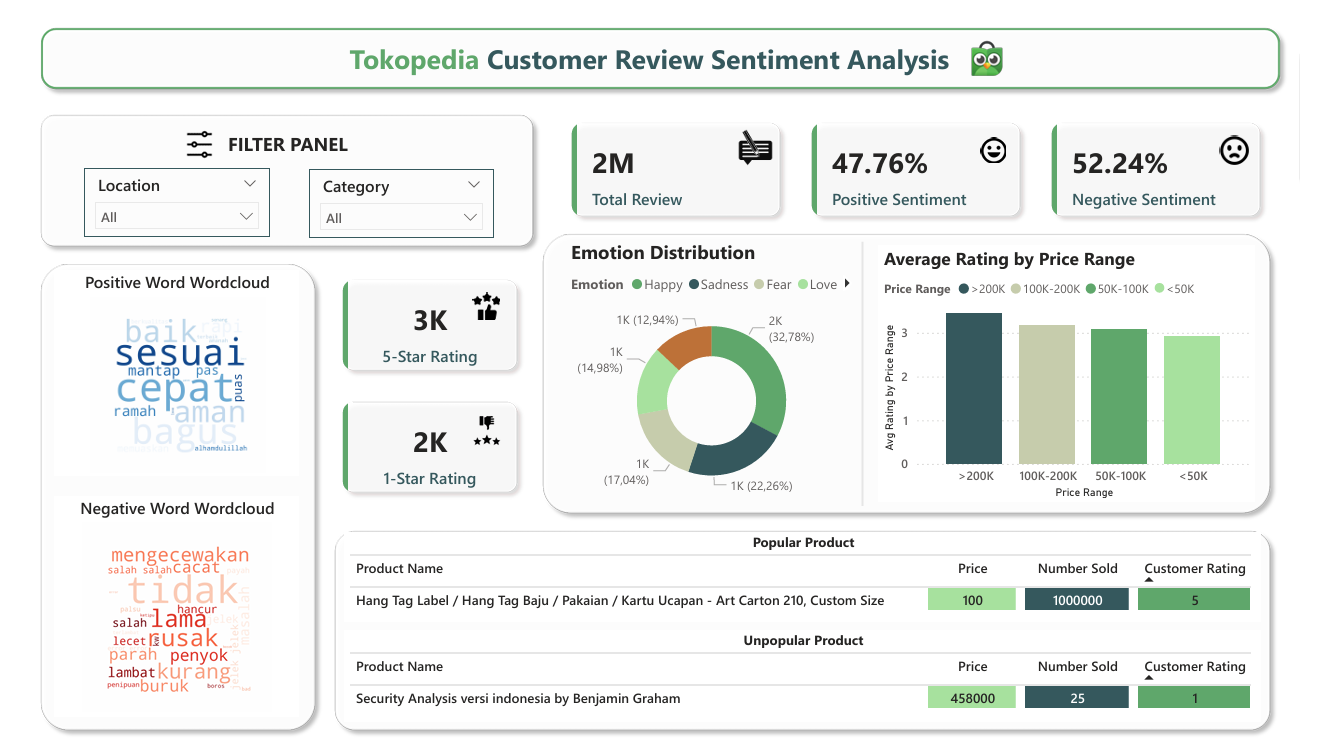

What the dashboard file says about the page in this screenshot:
{"tool":"powerbi","page":{"name":"Page 1","canvas":[1280,720],"ordinal":0},"visuals":[{"type":"shape","box":[12,87,510,149],"z":1000},{"type":"shape","box":[12,236,292,484],"z":2000},{"type":"shape","box":[305.6,503.3,953.3,216.7],"z":3000},{"type":"shape","box":[514.4,205.6,744.4,297.8],"z":4000},{"type":"shape","box":[11.7,0,1257.6,78.8],"z":5000},{"type":"textbox","box":[0,15.6,1258.6,47.7],"z":6000},{"type":"image","box":[767.4,15.6,398.8,47.7],"z":7000},{"type":"cardVisual","fields":{"Data":["PRDECT-ID Dataset.Total Review Unique","PRDECT-ID Dataset.% Sentimen Positif","PRDECT-ID Dataset.% Sentimen Negatif"]},"box":[535,86.6,723.6,127.4],"z":8000},{"type":"slicer","fields":{"Values":["PRDECT-ID Dataset.Location"]},"box":[64.4,148.9,185.6,68.9],"z":9000},{"type":"tableEx","title":"Popular Product","fields":{"Values":["PRDECT-ID Dataset.Product Name","PRDECT-ID Dataset.Price","PRDECT-ID Dataset.Number Sold","PRDECT-ID Dataset.Customer Rating"]},"box":[325,514,917,90],"z":10000},{"type":"cardVisual","fields":{"Data":["PRDECT-ID Dataset.Jumlah Rating 5","PRDECT-ID Dataset.Jumlah Rating 1"]},"box":[305.6,244.4,208.9,245.6],"z":11000},{"type":"donutChart","title":"Emotion Distribution","fields":{"Y":["PRDECT-ID Dataset.Jumlah Emosi"],"Category":["PRDECT-ID Dataset.Emotion"]},"box":[545.6,220,291.1,270],"z":12000},{"type":"pythonVisual","title":"Positive Word Wordcloud","fields":{"Values":["processed_reviews.Sentiment","processed_reviews.Positive Words"]},"box":[35,252,245,206],"z":13000},{"type":"pythonVisual","title":"Negative Word Wordcloud","fields":{"Values":["processed_reviews.Sentiment","processed_reviews.Negative Words"]},"box":[35,478,245,221],"z":14000},{"type":"tableEx","title":"Unpopular Product","fields":{"Values":["PRDECT-ID Dataset.Product Name","PRDECT-ID Dataset.Price","PRDECT-ID Dataset.Number Sold","PRDECT-ID Dataset.Customer Rating"]},"box":[325,612,917,92],"z":15000},{"type":"image","box":[157.8,103.3,43.3,45.6],"z":16000},{"type":"image","box":[445.6,268.9,42.2,37.8],"z":17000},{"type":"image","box":[441.1,390,50,44.4],"z":18000},{"type":"image","box":[955.6,108.9,36.7,45.6],"z":19000},{"type":"image","box":[1193.3,112.2,42.2,38.9],"z":20000},{"type":"image","box":[711.1,104.4,48.9,48.9],"z":21000},{"type":"columnChart","title":"Average Rating by Price Range","fields":{"Category":["PRDECT-ID Dataset.Price Range"],"Y":["PRDECT-ID Dataset.Avg Rating by Price Range"],"Series":["PRDECT-ID Dataset.Price Range"]},"box":[858.9,226.7,376.7,257.8],"z":22000},{"type":"shape","box":[711.1,223.3,263.3,263.3],"z":23000},{"type":"slicer","fields":{"Values":["PRDECT-ID Dataset.Category"]},"box":[288.9,150,185.6,68.9],"z":24000},{"type":"textbox","box":[203.3,106.7,178.9,44.4],"z":25000}]}

Visuals, with their boxes in screenshot pixels (x1, y1, x2, y2), scaled from the page's 1280x720 canvas onto the 1317x755 screenshot:
shape: <bbox>12, 91, 537, 247</bbox>
shape: <bbox>12, 247, 313, 754</bbox>
shape: <bbox>314, 528, 1295, 754</bbox>
shape: <bbox>529, 216, 1295, 528</bbox>
shape: <bbox>12, 0, 1306, 83</bbox>
textbox: <bbox>0, 16, 1295, 66</bbox>
image: <bbox>790, 16, 1200, 66</bbox>
cardVisual - PRDECT-ID Dataset.Total Review Unique x PRDECT-ID Dataset.% Sentimen Positif: <bbox>550, 91, 1295, 224</bbox>
slicer - PRDECT-ID Dataset.Location: <bbox>66, 156, 257, 228</bbox>
"Popular Product" tableEx: <bbox>334, 539, 1278, 633</bbox>
cardVisual - PRDECT-ID Dataset.Jumlah Rating 5 x PRDECT-ID Dataset.Jumlah Rating 1: <bbox>314, 256, 529, 514</bbox>
"Emotion Distribution" donutChart: <bbox>561, 231, 861, 514</bbox>
"Positive Word Wordcloud" pythonVisual: <bbox>36, 264, 288, 480</bbox>
"Negative Word Wordcloud" pythonVisual: <bbox>36, 501, 288, 733</bbox>
"Unpopular Product" tableEx: <bbox>334, 642, 1278, 738</bbox>
image: <bbox>162, 108, 207, 156</bbox>
image: <bbox>458, 282, 502, 322</bbox>
image: <bbox>454, 409, 505, 456</bbox>
image: <bbox>983, 114, 1021, 162</bbox>
image: <bbox>1228, 118, 1271, 158</bbox>
image: <bbox>732, 109, 782, 161</bbox>
"Average Rating by Price Range" columnChart: <bbox>884, 238, 1271, 508</bbox>
shape: <bbox>732, 234, 1003, 510</bbox>
slicer - PRDECT-ID Dataset.Category: <bbox>297, 157, 488, 230</bbox>
textbox: <bbox>209, 112, 393, 158</bbox>
